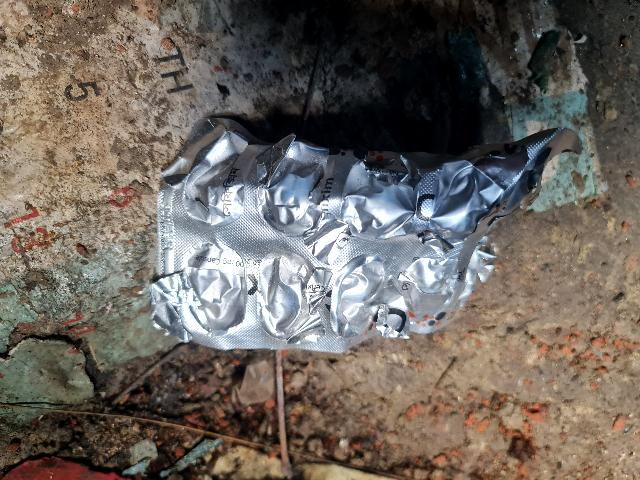medicine: (142, 108, 532, 360)
